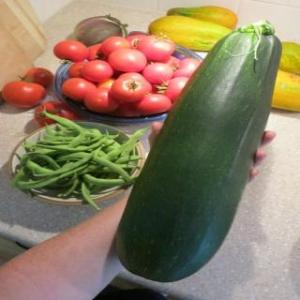tomato: (0, 70, 46, 110), (137, 26, 177, 62), (82, 80, 120, 112), (109, 45, 150, 73), (112, 73, 150, 103), (61, 74, 97, 98), (56, 37, 91, 61), (140, 60, 170, 86), (104, 34, 134, 56)
zucchini: (166, 19, 280, 257), (144, 9, 234, 51), (255, 61, 300, 117)
